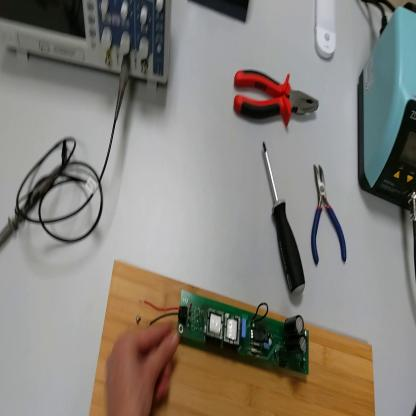hand: (107, 322, 178, 414)
high voltage board: (142, 288, 311, 373)
oscilloscope: (2, 2, 173, 93)
oscilloscope probe tip: (2, 159, 70, 249)
pliers: (230, 65, 323, 127), (310, 160, 350, 264)
screwdriver-: (264, 143, 308, 296)
welder station: (357, 6, 416, 209)
working area: (90, 258, 376, 416)
